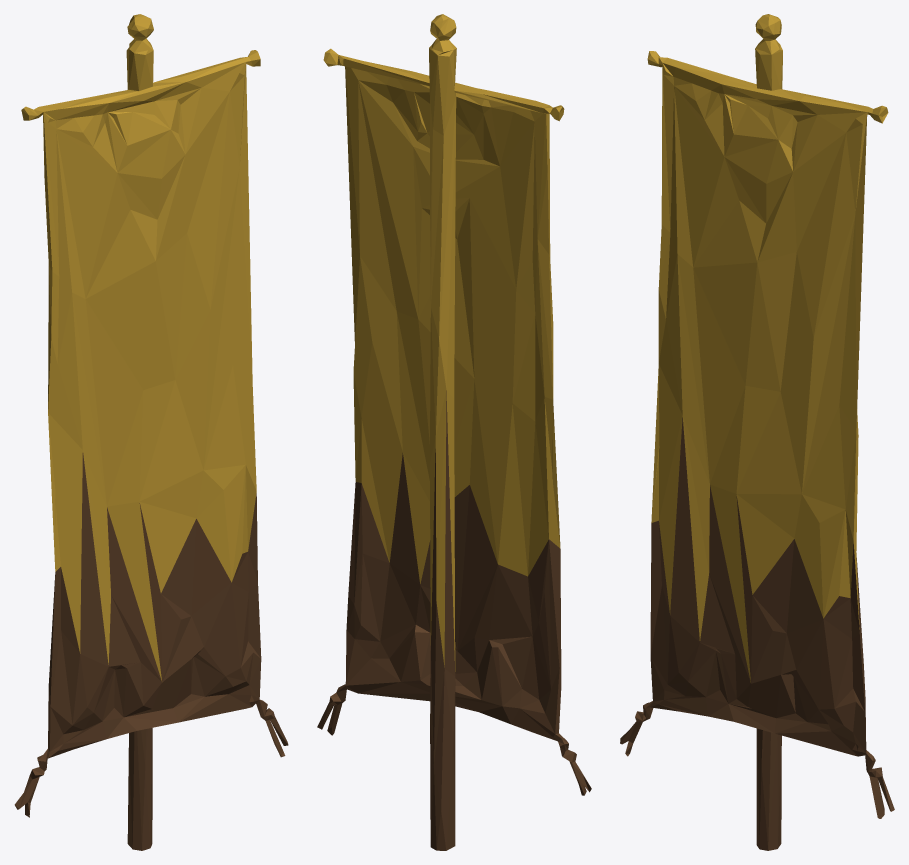
The model's file is banner-1.glb.
3 views of the same model, side by side, from view 1: azimuth 30°, elevation 25°; view 2: azimuth 150°, elevation 25°; view 3: azimuth 330°, elevation 25° (orthographic).
Parts seen in each view (by area): view 1: output_unwrapped; view 2: output_unwrapped; view 3: output_unwrapped.
Boxes of the visible parts, x1=… form: output_unwrapped: x1=14, y1=14, x2=288, y2=850; output_unwrapped: x1=317, y1=14, x2=591, y2=850; output_unwrapped: x1=620, y1=14, x2=894, y2=850.
Bounding box in the file's own units: 0.9659 × 2.8 × 0.168.
